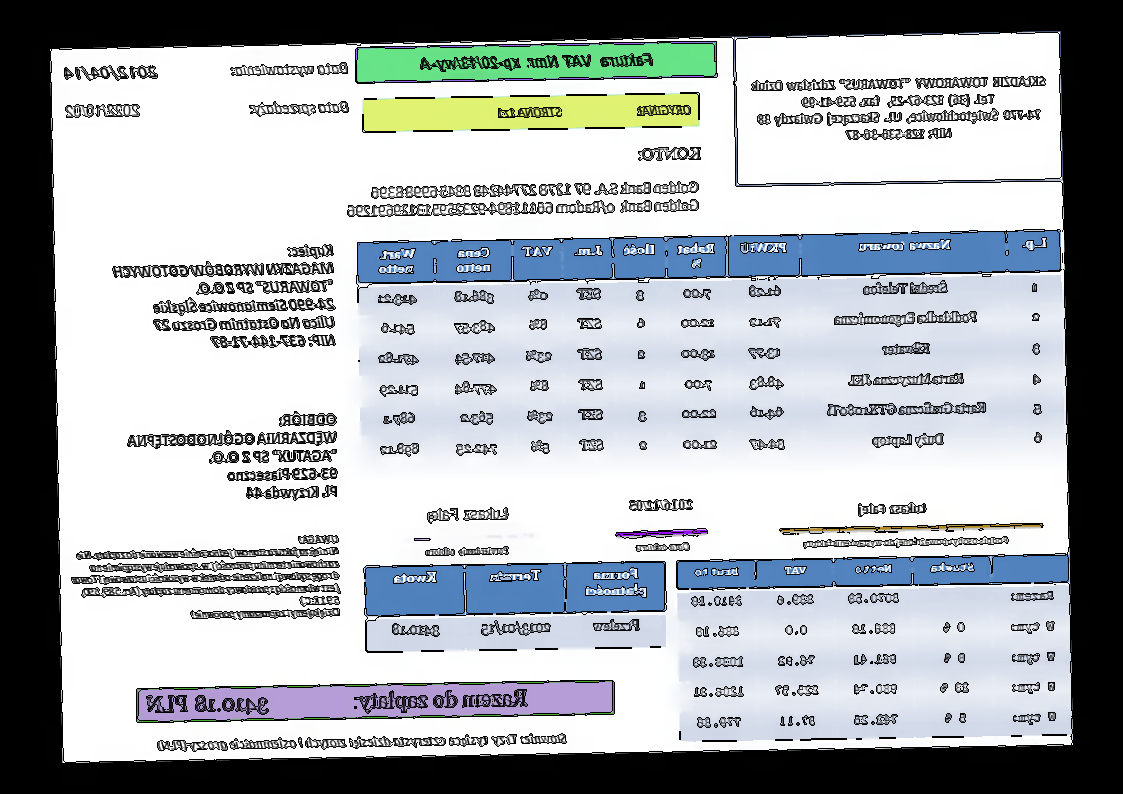Table: (356, 229, 1066, 468), (676, 555, 1072, 741), (362, 559, 668, 653)
TextBox: (110, 242, 337, 351), (68, 533, 342, 623), (748, 73, 1048, 144), (127, 409, 339, 504), (343, 179, 701, 219), (144, 687, 529, 717), (154, 731, 568, 752), (418, 50, 657, 75), (801, 533, 1011, 551), (496, 102, 694, 120), (228, 59, 349, 79), (246, 98, 350, 118), (62, 62, 160, 81), (427, 505, 511, 525), (628, 495, 695, 515), (63, 102, 141, 119), (856, 500, 929, 518), (637, 144, 702, 162), (425, 545, 510, 557), (635, 540, 692, 554)
